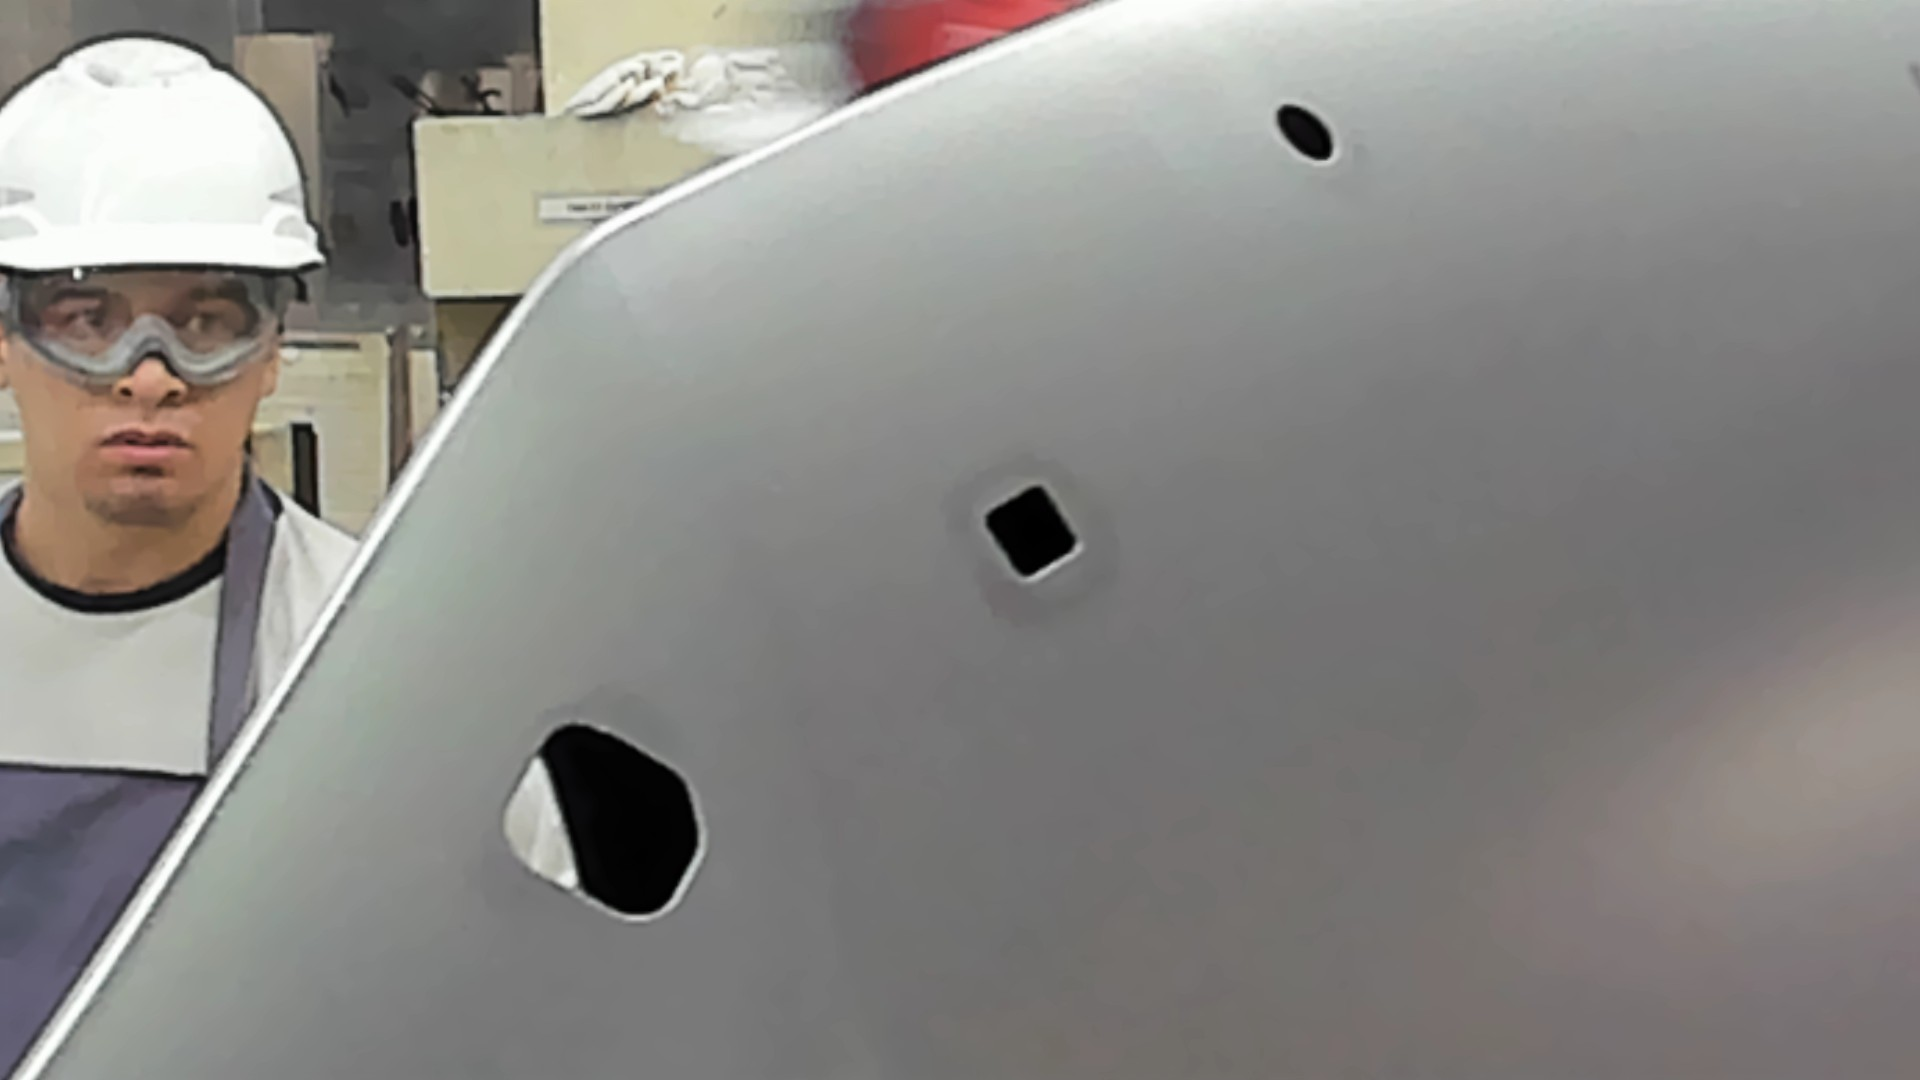chico: (1269, 99, 1345, 170)
grande: (495, 717, 711, 924)
mediano: (975, 481, 1087, 588)
